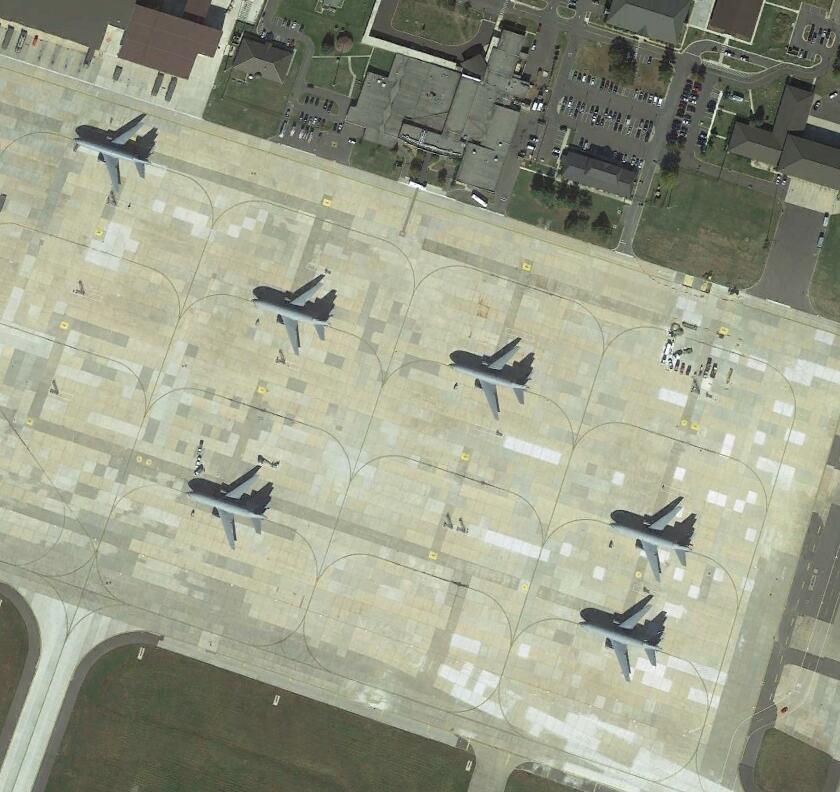A18: (248, 271, 338, 360), (580, 599, 670, 686), (447, 335, 535, 422), (608, 497, 696, 584), (188, 465, 272, 553), (77, 115, 159, 194)
